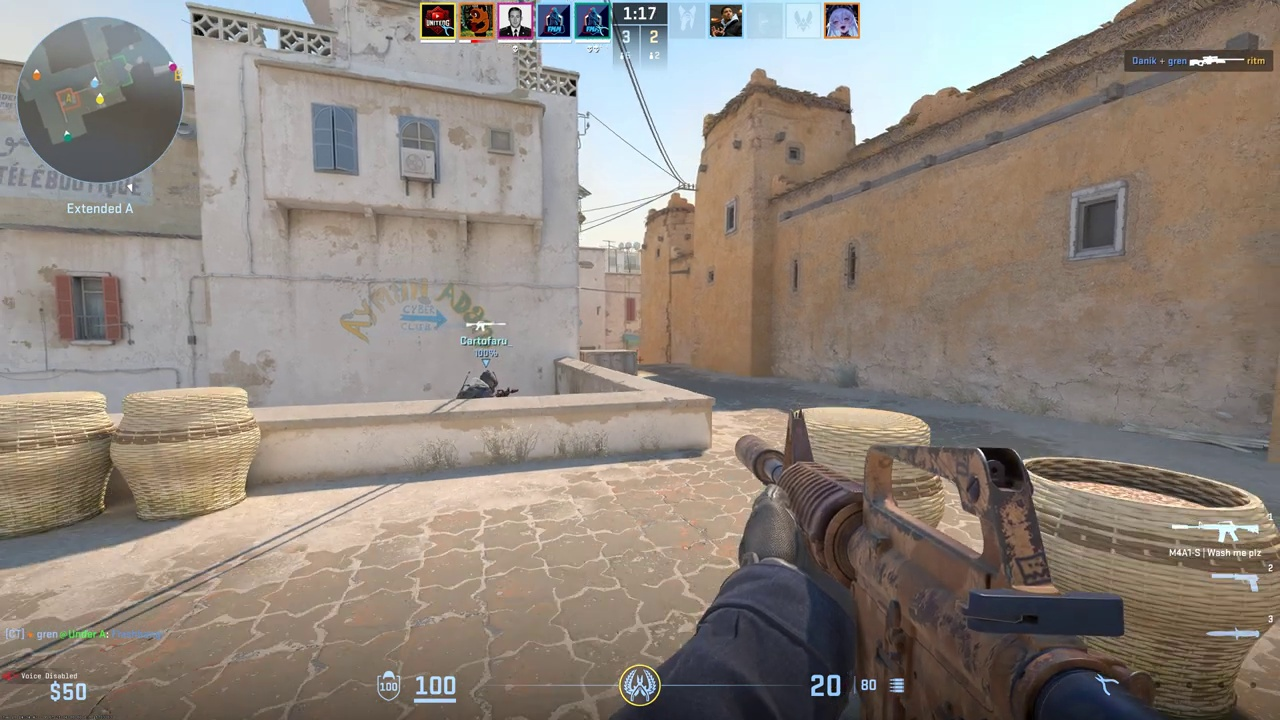CT: (464, 370, 504, 399)
